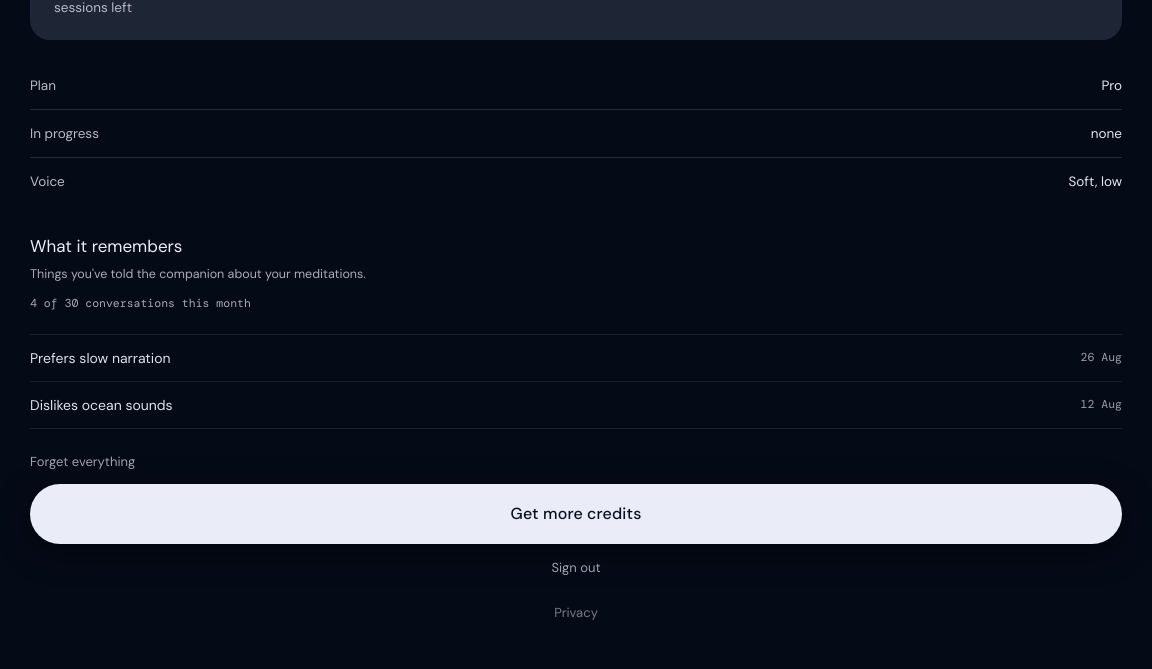
AccountPage · What it remembers › Forget clears the list
(page scrolled)
Expected: the text "Prefers slow narration" is shown, [30,349,171,367]
Click the button "Forget everything".
click(83, 462)  # box [30,440,135,484]
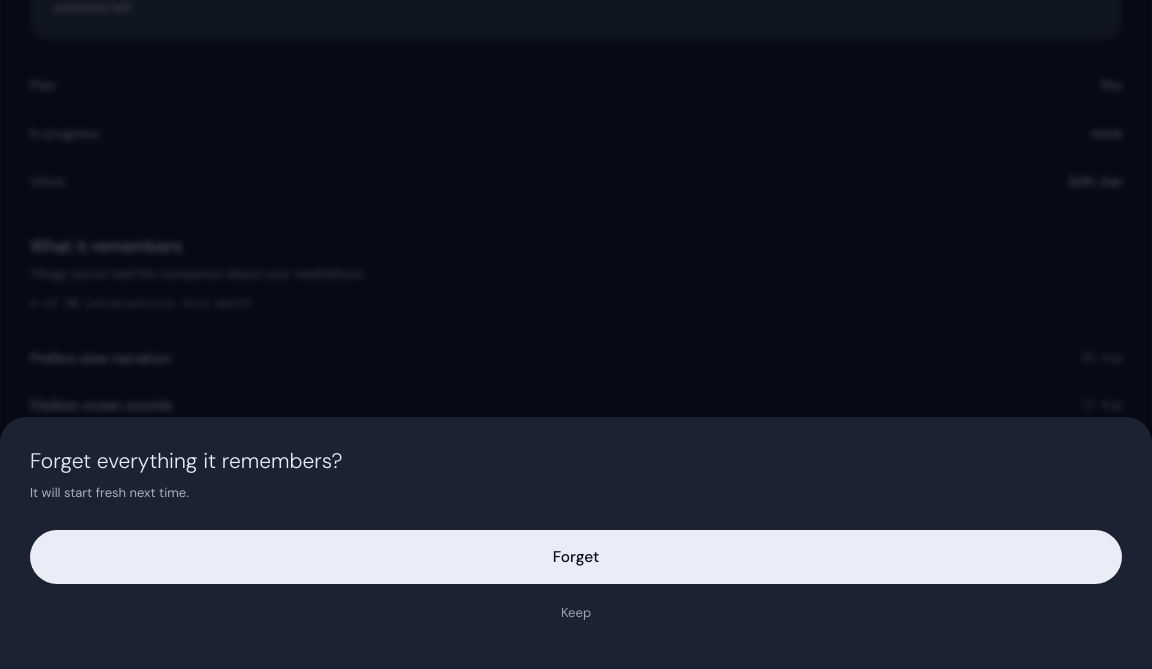
Click the button "Forget".
click(576, 557)  # box [30,530,1122,584]
(page scrolled)
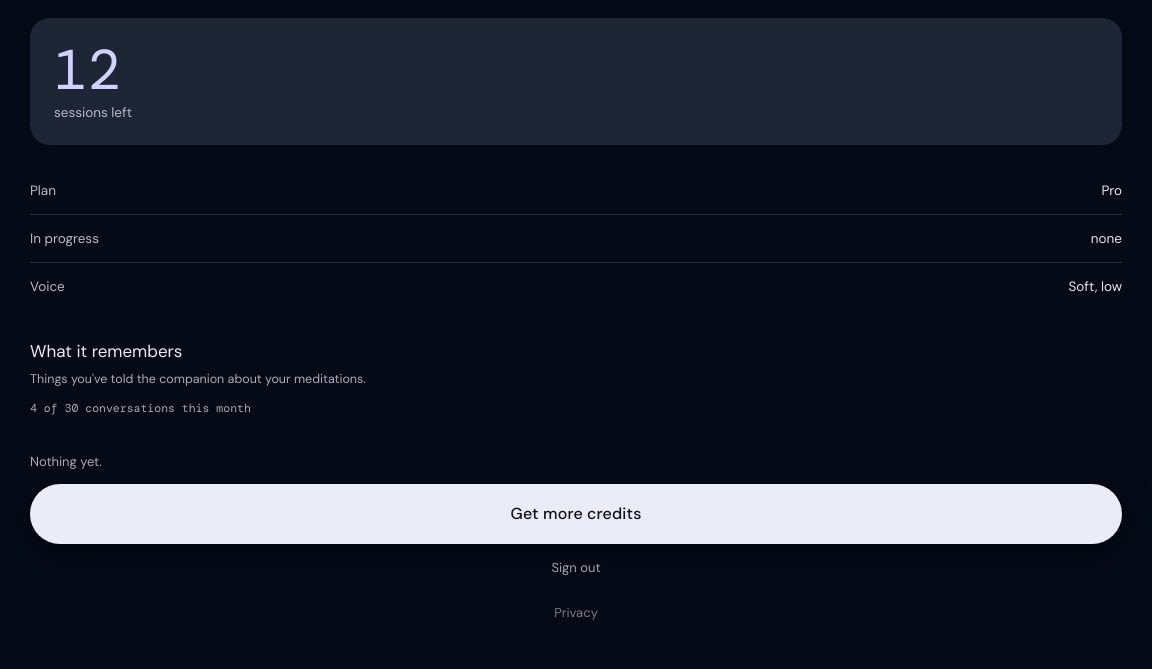
Expected: the text "Prefers slow narration" is gone
Expected: the text "Nothing yet." is shown, [30,453,102,470]
